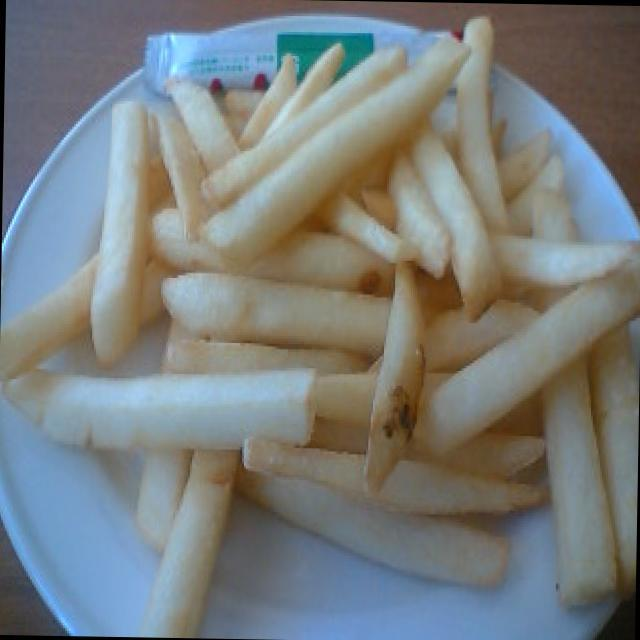French Fries: (41, 67, 616, 587)
